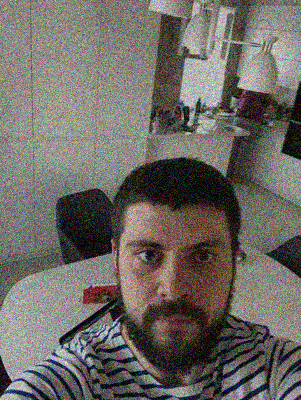without_mask: (122, 226, 233, 374)
